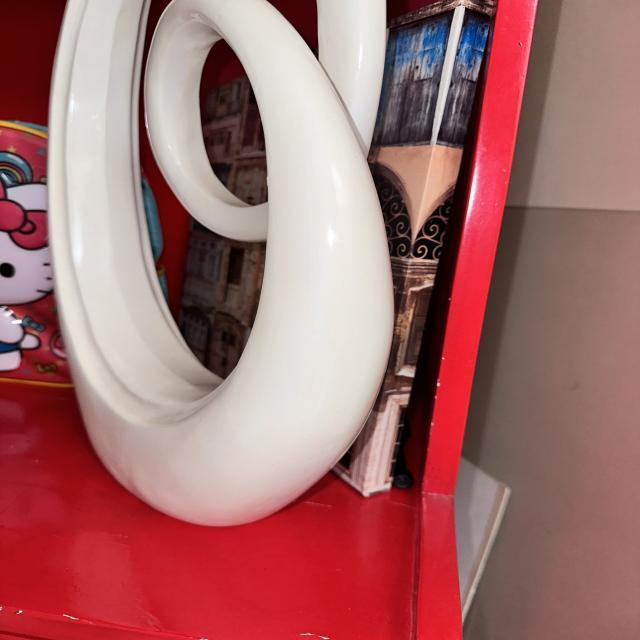hidden camera: (393, 474, 412, 488)
